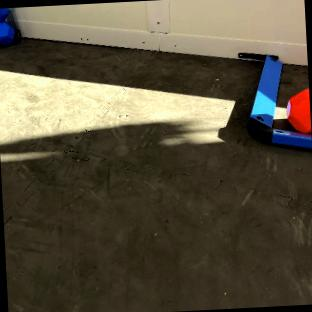V5_RED: (286, 87, 310, 132)
